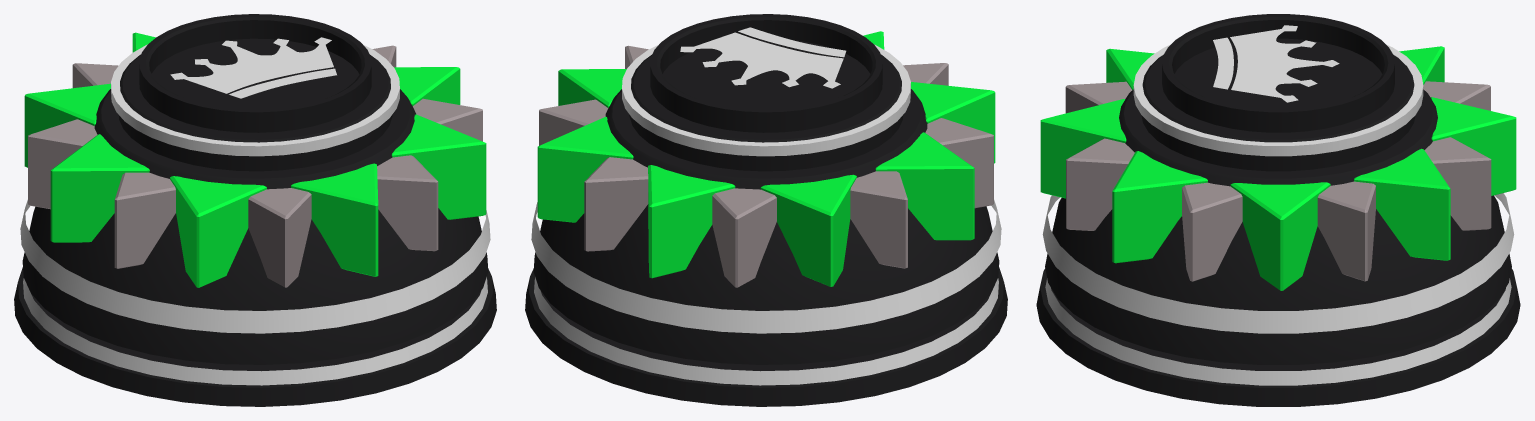
The model's file is MOHRE.TZ.fbx.
The picture shows the model from 3 angles, left to right: view 1: azimuth 30°, elevation 25°; view 2: azimuth 150°, elevation 25°; view 3: azimuth 270°, elevation 25°; orthographic projection.
Visible parts, largest first — view 1: Cylinder, Cylinder.018, Cylinder.011, Cylinder.002, Cylinder.003, Cylinder.001, Line002; view 2: Cylinder, Cylinder.018, Cylinder.011, Cylinder.002, Cylinder.003, Cylinder.001, Line002; view 3: Cylinder, Cylinder.018, Cylinder.011, Cylinder.002, Cylinder.003, Cylinder.001, Line002.
Boxes of the visible parts, x1,y1,x2,y2 form: Cylinder: (14,14,496,406); Cylinder.018: (24,32,486,287); Cylinder.011: (28,45,482,287); Cylinder.002: (20,200,490,333); Cylinder.003: (23,277,487,385); Cylinder.001: (111,44,399,156); Line002: (170,37,336,98); Cylinder: (525,14,1007,406); Cylinder.018: (537,31,995,286); Cylinder.011: (539,45,993,287); Cylinder.002: (531,200,1001,333); Cylinder.003: (534,277,998,385); Cylinder.001: (622,44,910,156); Line002: (680,27,846,88); Cylinder: (1036,14,1520,406); Cylinder.018: (1040,46,1516,290); Cylinder.011: (1065,81,1491,281); Cylinder.002: (1042,193,1514,333); Cylinder.003: (1045,278,1511,385); Cylinder.001: (1133,44,1423,156); Line002: (1213,25,1339,102).
Size of the model in its own units: 305 by 169 by 306.
